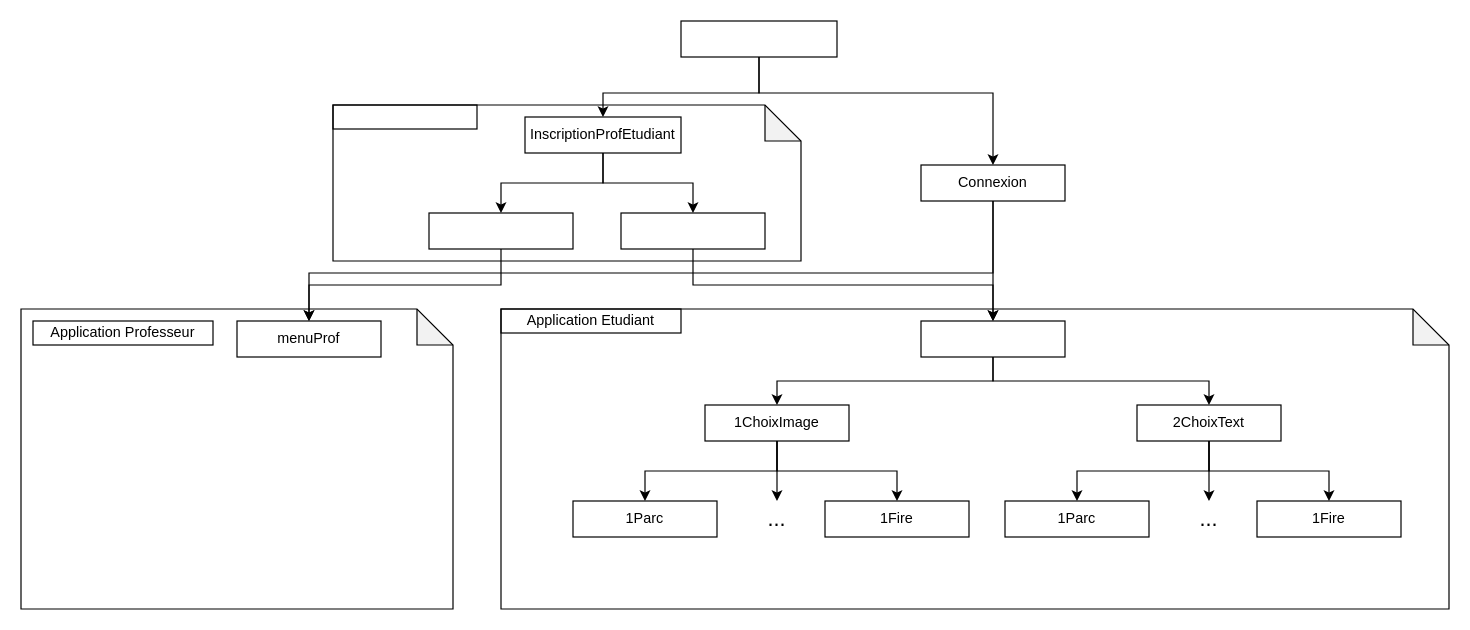
Image size: 1470x630. Some labels were removed from this diagram. The box of each missing label's shape, as (x1, y1, x2, y2) in pixels:
Accueil: (680, 20, 837, 57)
Inscription: (332, 104, 477, 129)
InscriptionEtudiant: (620, 212, 765, 249)
InscriptionProf: (428, 212, 573, 249)
menuBeau: (920, 320, 1065, 357)
